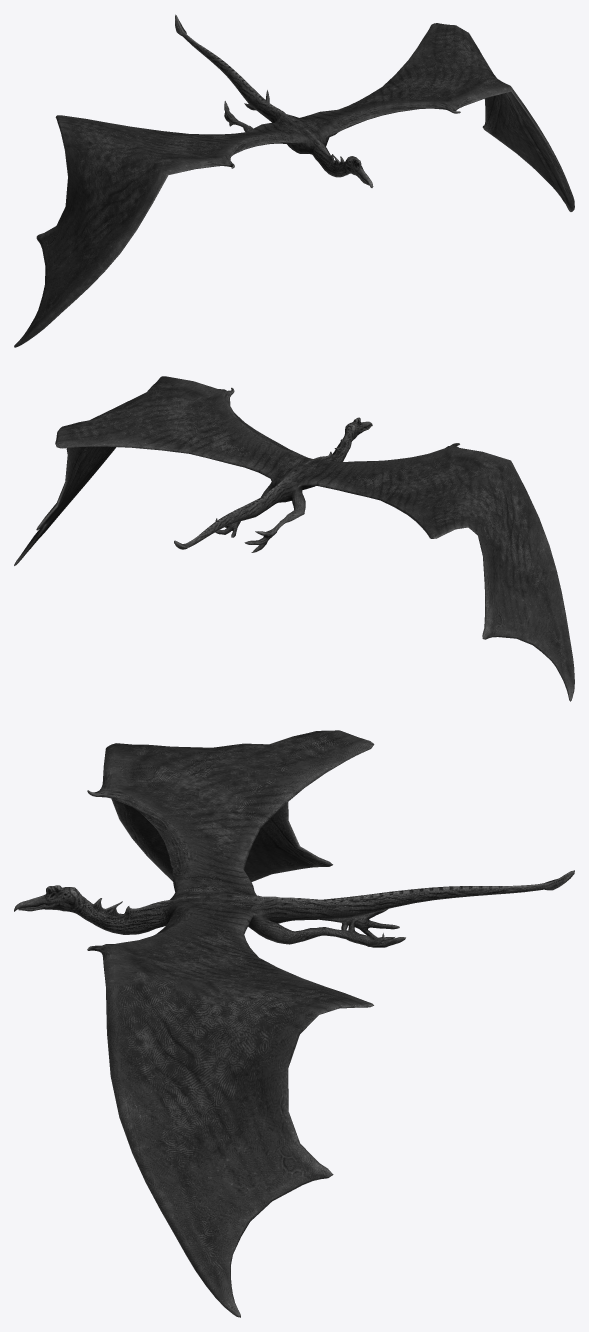
The model's file is Fellbeast_Animate_Flying_38.obj.
3 renders of one model, top to bottom at view 1: azimuth 30°, elevation 25°; view 2: azimuth 150°, elevation 25°; view 3: azimuth 270°, elevation 25°, orthographic. The views are drawn at different scales.
Parts seen in each view (by area): view 1: Fellbeast; view 2: Fellbeast; view 3: Fellbeast.
Boxes of the visible parts, x1,y1,x2,y2 form: Fellbeast: [14, 14, 574, 347]; Fellbeast: [14, 376, 574, 701]; Fellbeast: [14, 730, 574, 1317].
Size of the model in its own units: 7.11 by 2.25 by 4.36.
